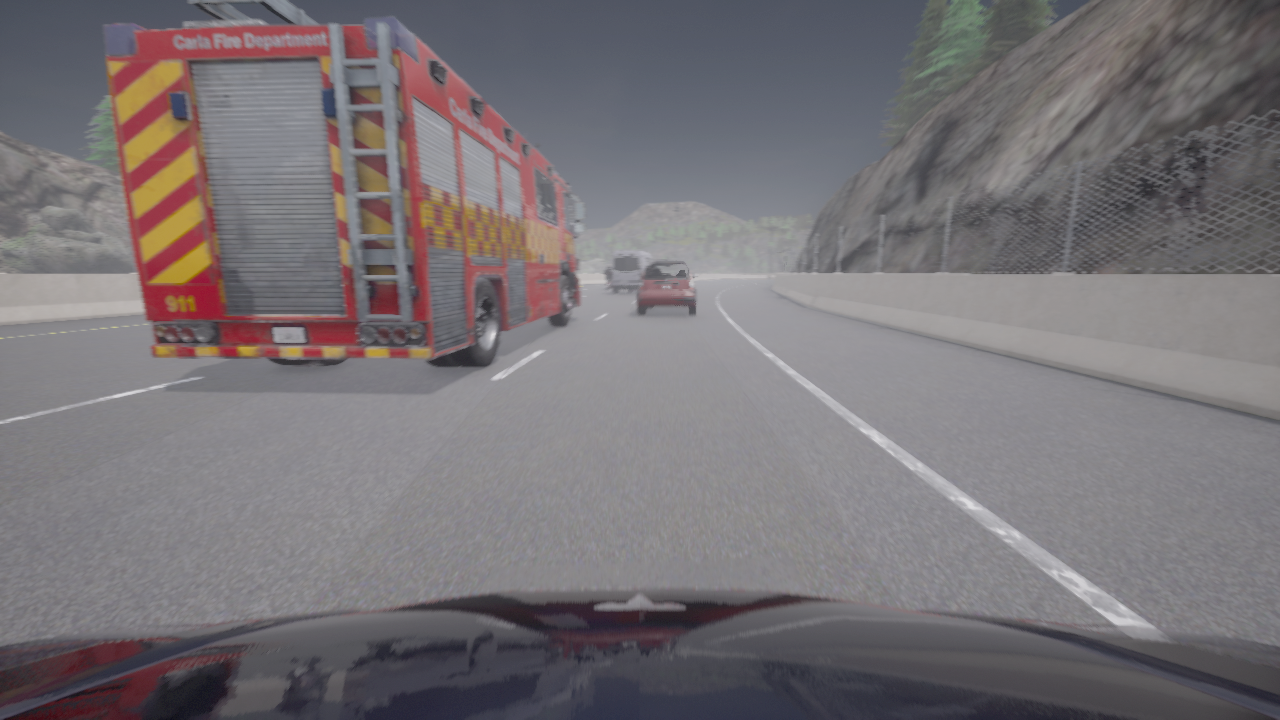cyclist: (104, 0, 585, 367), (0, 588, 1279, 719), (637, 259, 698, 315), (610, 249, 652, 293), (606, 279, 611, 288)
